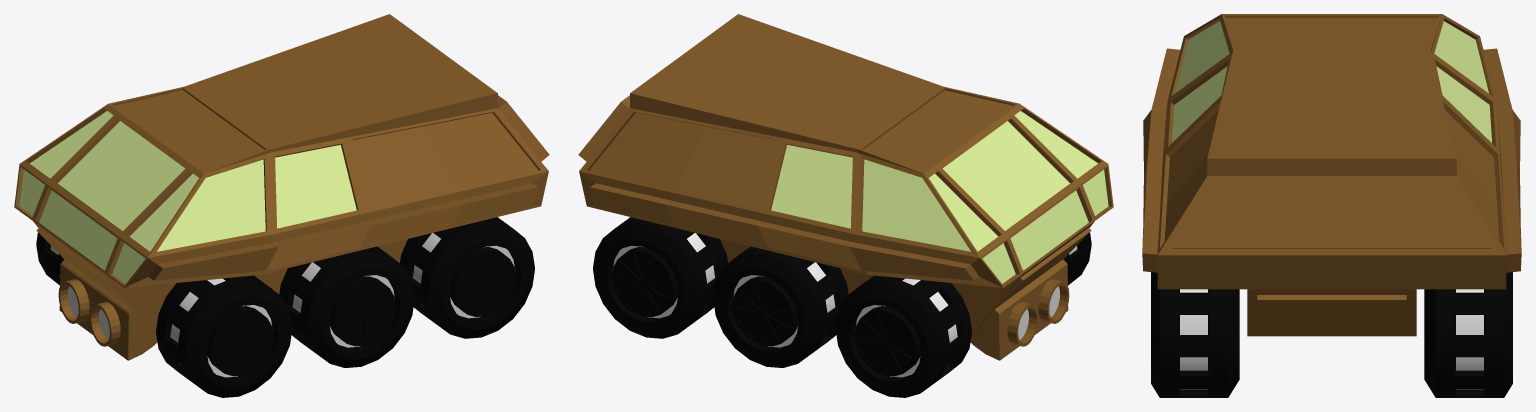
The model's file is SimpleCar.fbx.
3 views of the same model, side by side, from view 1: azimuth 30°, elevation 25°; view 2: azimuth 150°, elevation 25°; view 3: azimuth 270°, elevation 25° (orthographic). The views are drawn at different scales.
Parts seen in each view (by area): view 1: Cabine, Wheeels.003, Wheeels.002, Wheeels.001; view 2: Cabine, Wheeels.003, Wheeels.002, Wheeels.001; view 3: Cabine, Wheeels.001.
Part boxes in pixels (bbox=[...]): Cabine: bbox=[14, 14, 549, 360]; Wheeels.003: bbox=[36, 232, 292, 397]; Wheeels.002: bbox=[279, 246, 414, 367]; Wheeels.001: bbox=[400, 217, 534, 338]; Cabine: bbox=[578, 14, 1113, 360]; Wheeels.003: bbox=[835, 232, 1091, 397]; Wheeels.002: bbox=[713, 246, 848, 367]; Wheeels.001: bbox=[593, 217, 727, 338]; Cabine: bbox=[1142, 14, 1521, 336]; Wheeels.001: bbox=[1151, 272, 1512, 397].
Bounding box in the file's own units: 646 × 331 × 448.
